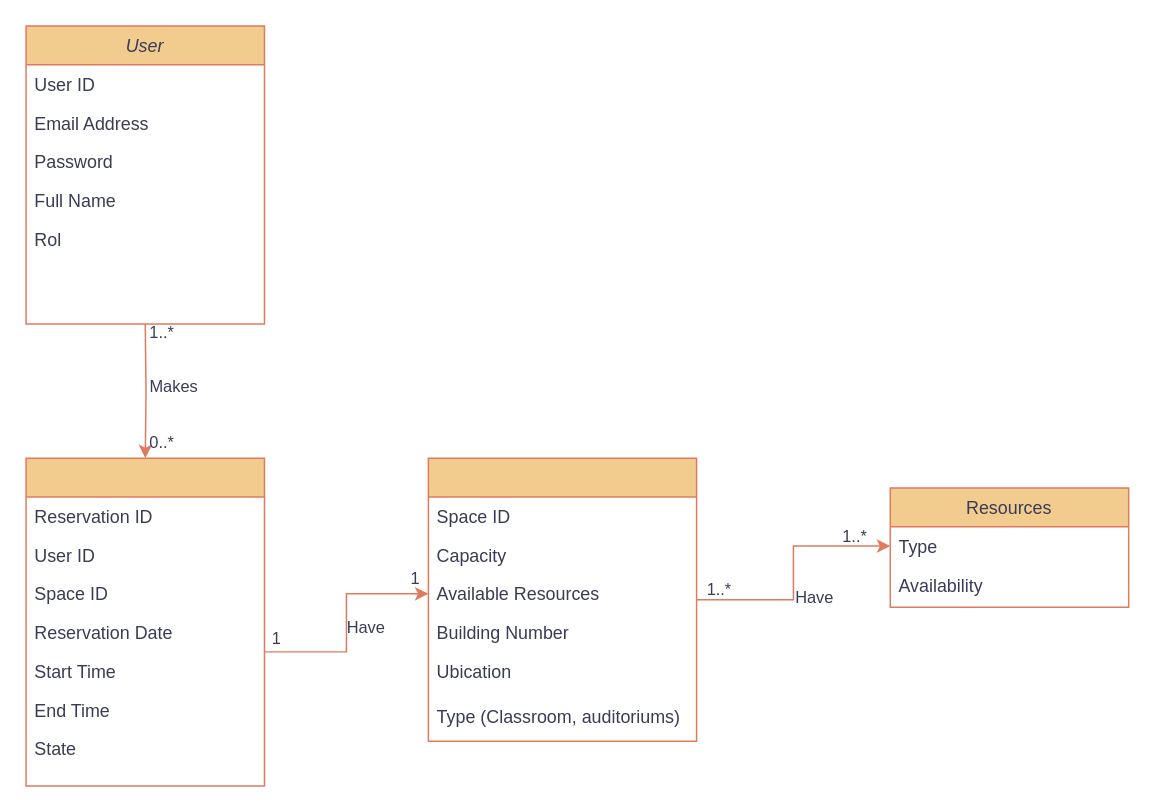
Some shapes in this 1155 by 812 pixel diagram are drawn without their labels. Here are the shapes that lost their labels. From the top down, the box of each, then its label:
(427, 457, 697, 741): Spaces
(25, 457, 264, 786): Reservations
